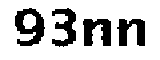3: (49, 5, 78, 51)
9: (13, 7, 46, 48)
n: (81, 14, 115, 52), (117, 16, 144, 49)
